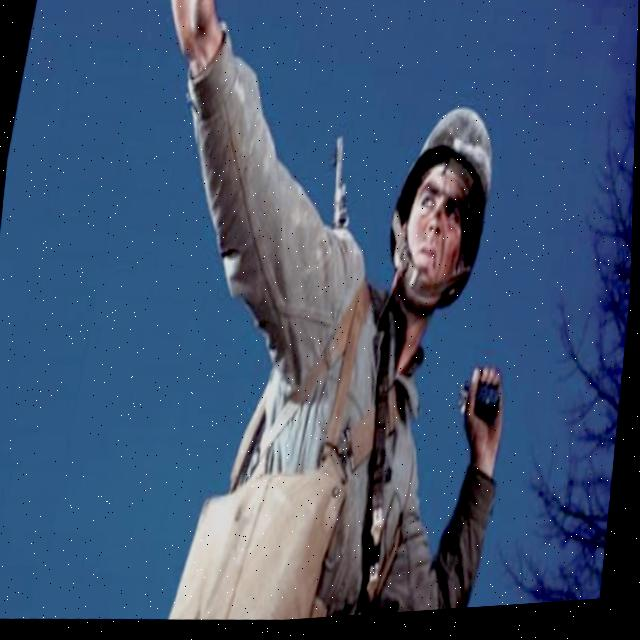grenade: (450, 370, 508, 438)
